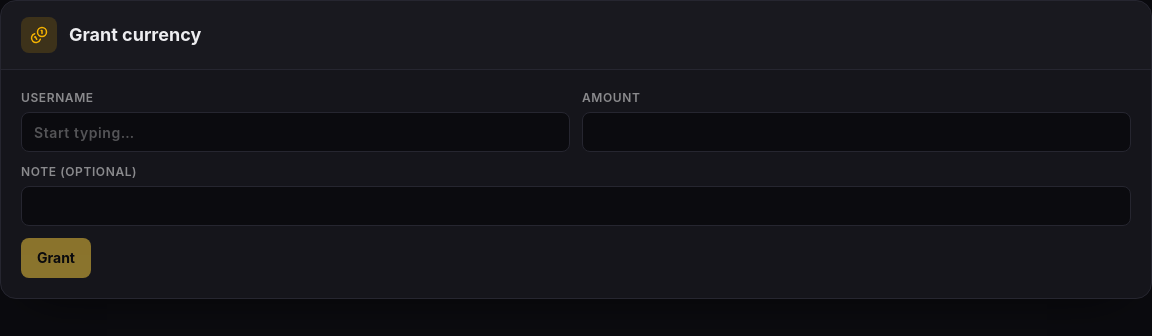
Scenario: GrantPanel › says when nobody matches
The image size is (1152, 336).
In the dropdown labelled "Username": (296, 132) [21, 112, 570, 152], type "zzz"
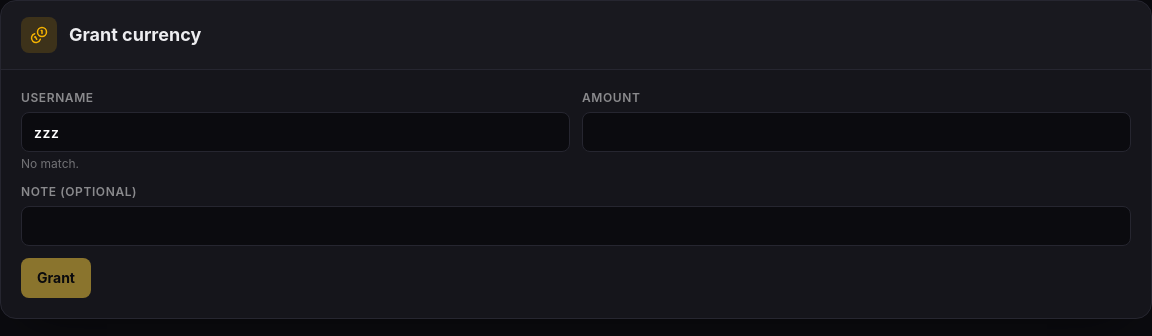
Now the text "No match." is shown, box [21, 156, 79, 171]
